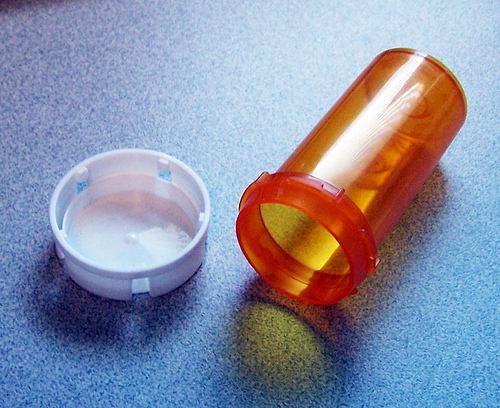pill bottle: (234, 47, 469, 308)
